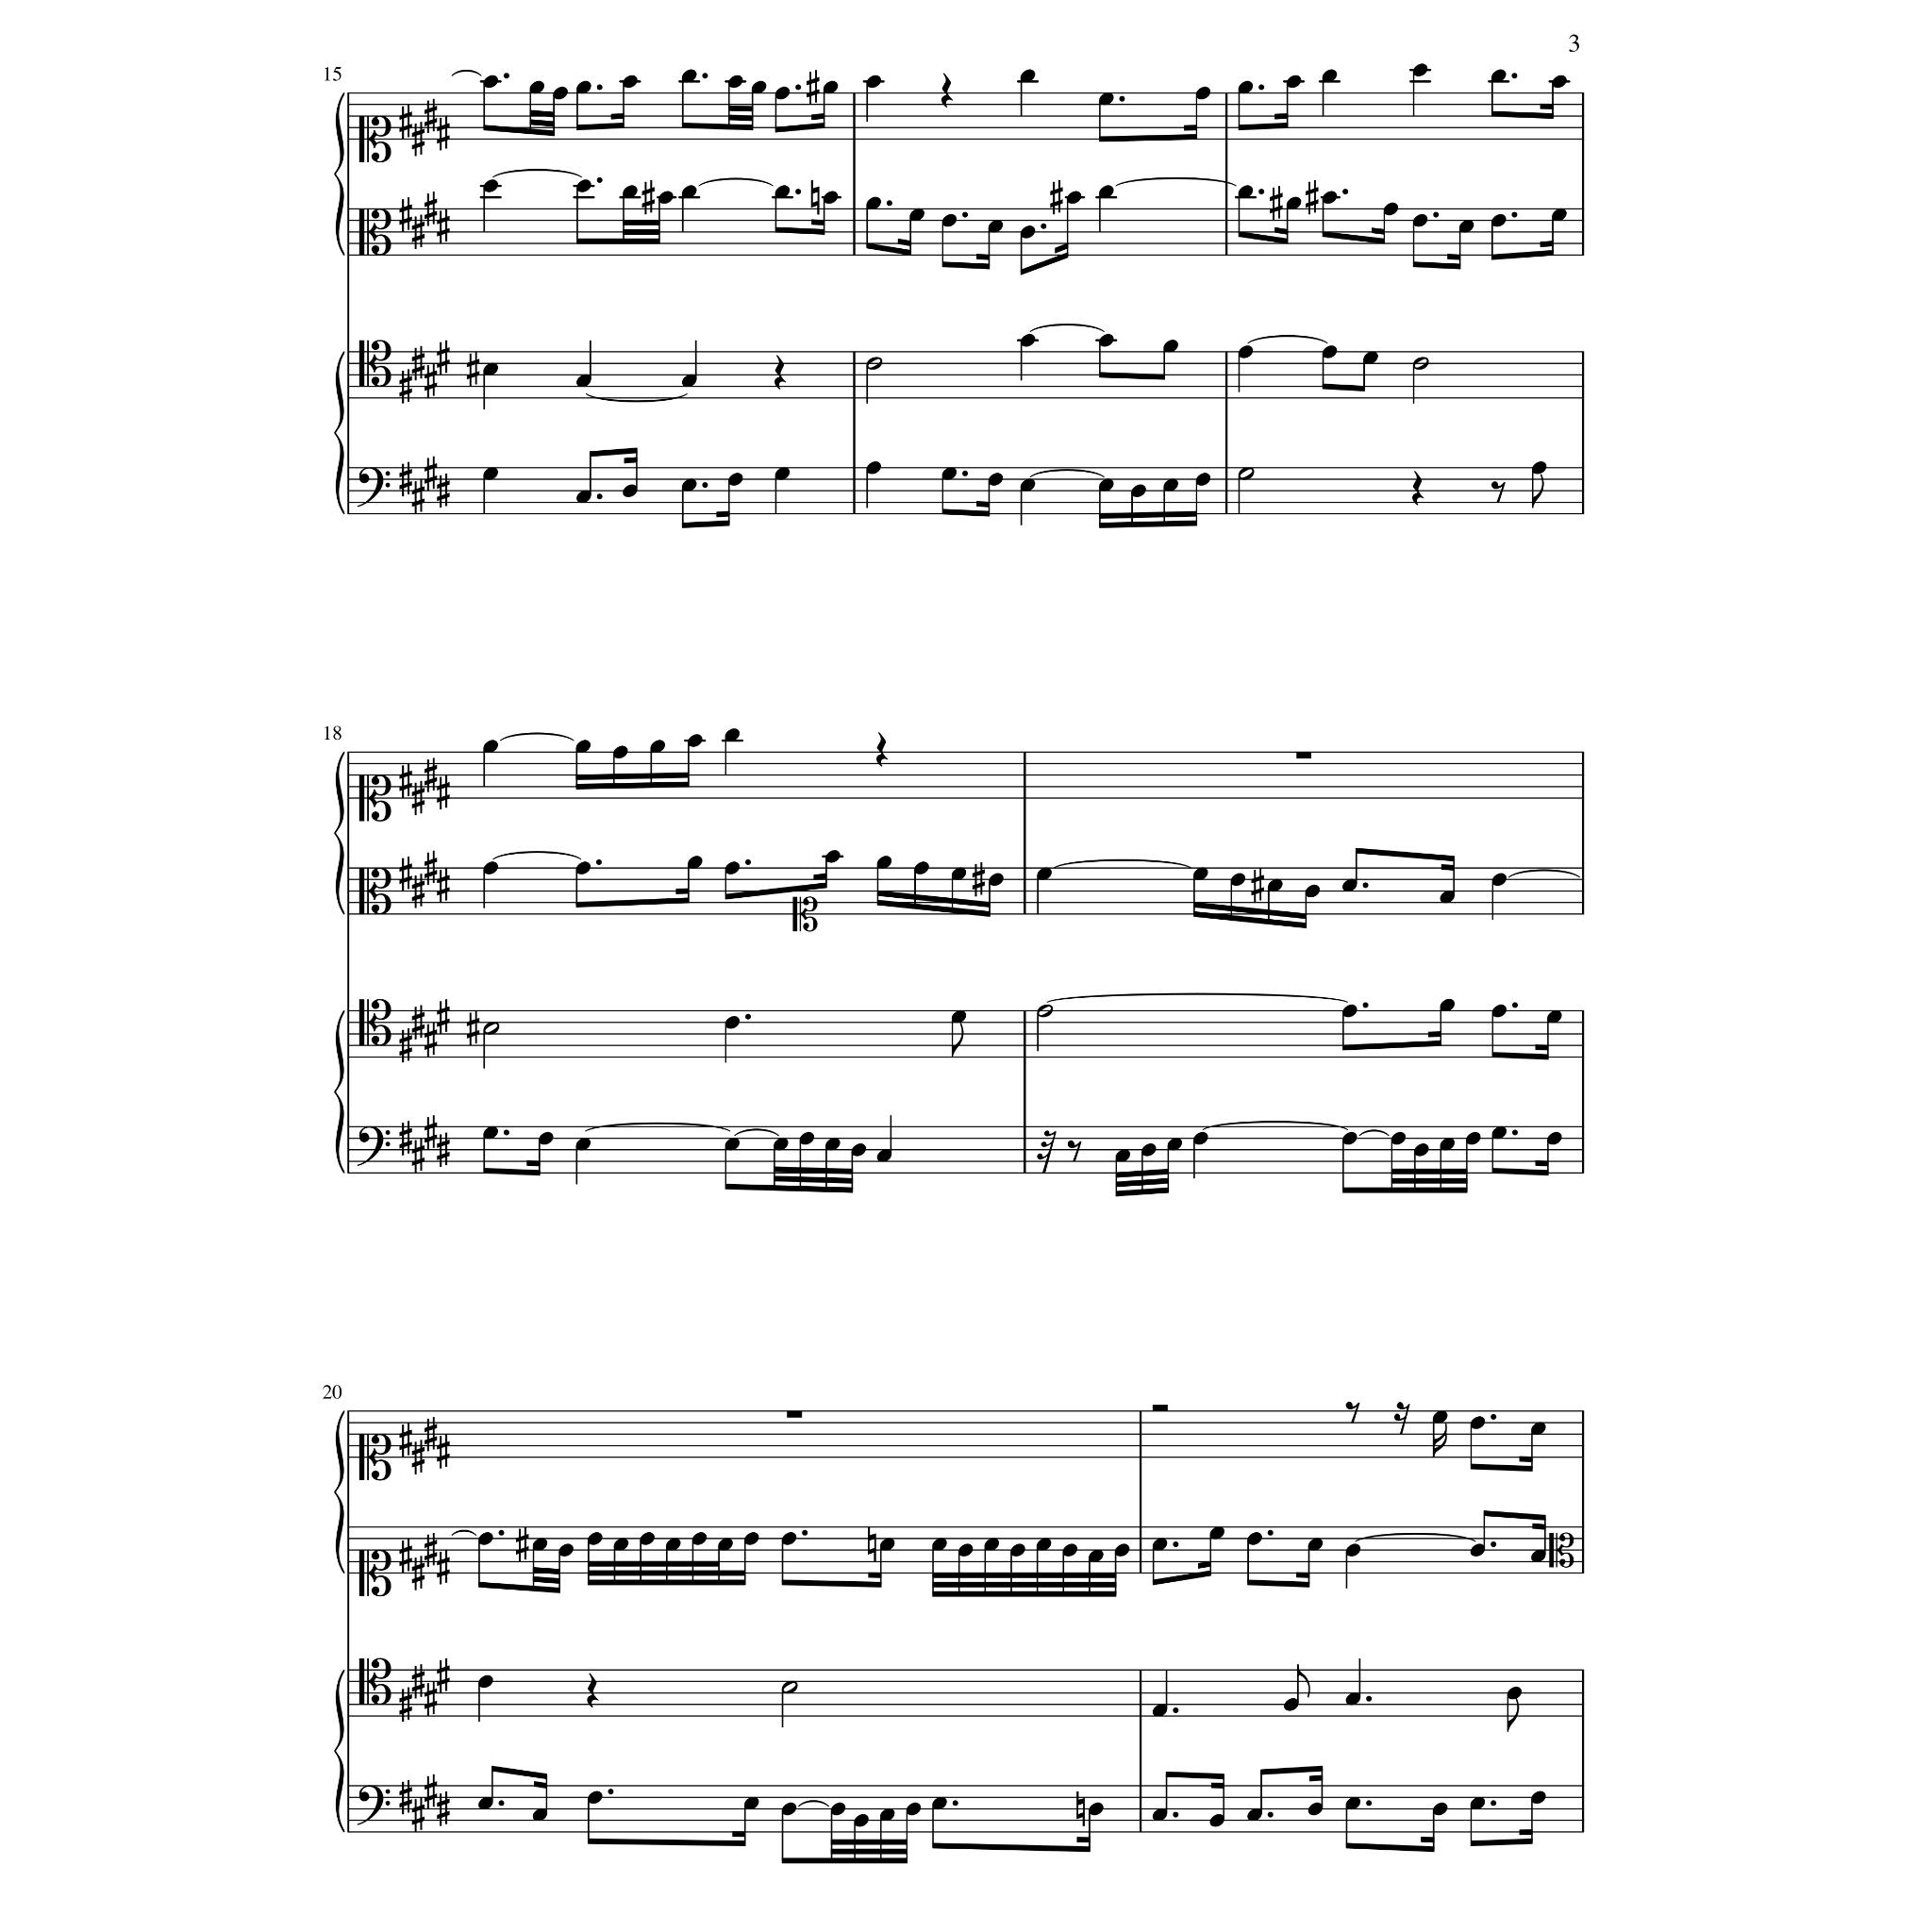brace: (333, 92, 344, 257), (333, 351, 344, 515), (333, 751, 344, 915), (333, 1010, 344, 1174), (333, 1410, 344, 1574), (333, 1670, 344, 1832)
fClef: (357, 1785, 391, 1826), (357, 468, 391, 508), (357, 1126, 391, 1166)
flag16thDown: (1432, 1423, 1447, 1457)
flag8thDown: (951, 1023, 964, 1057), (1532, 475, 1543, 508), (1507, 1698, 1519, 1732)
flag8thUp: (1297, 1664, 1310, 1698)
noteheadBlack: (1019, 225, 1036, 240), (1530, 460, 1547, 475), (774, 185, 791, 200), (1341, 1004, 1358, 1019), (1491, 1004, 1507, 1019), (1245, 1807, 1262, 1823), (1151, 1807, 1168, 1823), (1530, 1421, 1547, 1436), (879, 1807, 896, 1823), (1238, 185, 1253, 200), (1098, 185, 1113, 200), (623, 185, 638, 200), (681, 185, 696, 200), (866, 460, 881, 475), (824, 849, 840, 864), (532, 1807, 547, 1823), (1194, 87, 1211, 100), (1194, 473, 1211, 486), (1285, 75, 1302, 89), (1285, 197, 1302, 210), (1019, 70, 1036, 83), (1019, 334, 1036, 347), (1019, 479, 1036, 492), (1162, 340, 1179, 353), (1162, 479, 1179, 492), (1551, 75, 1568, 89), (1551, 208, 1568, 222), (1362, 351, 1379, 364), (1321, 70, 1338, 83), (1321, 192, 1338, 205), (1321, 345, 1338, 358), (528, 81, 545, 94), (987, 220, 1004, 233), (987, 473, 1004, 486), (774, 467, 791, 480), (774, 87, 791, 100), (726, 75, 743, 89), (726, 473, 743, 486), (1304, 885, 1321, 898), (1266, 879, 1283, 892), (1341, 1132, 1358, 1145), (1341, 879, 1358, 892), (1166, 1138, 1183, 1151), (1413, 1143, 1430, 1157), (1545, 1132, 1562, 1145), (1545, 1010, 1562, 1024), (1491, 1126, 1507, 1140), (1491, 874, 1507, 887), (611, 746, 628, 759), (649, 740, 666, 753), (875, 856, 892, 869), (875, 1149, 892, 1162), (1036, 868, 1053, 881), (798, 1132, 815, 1145), (1245, 1532, 1262, 1545), (1283, 1698, 1300, 1711), (1151, 1704, 1168, 1717), (1151, 1538, 1168, 1551), (1113, 1543, 1130, 1557), (1087, 1802, 1104, 1815), (1087, 1549, 1104, 1562), (1530, 1790, 1547, 1804), (1530, 1549, 1547, 1562), (1506, 1687, 1523, 1700), (717, 1538, 734, 1551), (691, 1532, 708, 1545), (664, 1538, 681, 1551), (477, 1797, 494, 1810), (477, 1675, 494, 1689), (477, 1532, 494, 1545), (879, 1538, 896, 1551), (1009, 1543, 1026, 1557), (983, 1538, 1000, 1551), (957, 1543, 974, 1557), (853, 1814, 870, 1827), (1238, 81, 1253, 94), (1238, 345, 1253, 358), (1066, 192, 1081, 205), (1098, 92, 1113, 106), (1098, 334, 1113, 347), (1098, 479, 1113, 492), (1130, 485, 1145, 498), (1383, 203, 1398, 216), (1412, 64, 1427, 77), (1412, 214, 1427, 227), (1491, 70, 1506, 83), (1491, 214, 1506, 227), (1458, 220, 1474, 233), (623, 485, 638, 498), (623, 75, 638, 89), (575, 375, 591, 388), (575, 491, 591, 504), (658, 192, 674, 205), (575, 179, 591, 192), (681, 70, 696, 83), (681, 375, 696, 388), (681, 479, 696, 492), (553, 87, 568, 100), (575, 81, 591, 94), (483, 75, 498, 89), (483, 179, 498, 192), (483, 363, 498, 376), (483, 467, 498, 480), (866, 197, 881, 210), (941, 467, 957, 480), (909, 208, 924, 222), (941, 214, 957, 227), (866, 75, 881, 89), (751, 81, 766, 94), (823, 81, 838, 94), (823, 192, 838, 205), (1192, 1132, 1207, 1145), (1230, 874, 1245, 887), (1391, 1132, 1406, 1145), (1141, 1143, 1157, 1157), (1192, 868, 1207, 881), (1115, 1149, 1130, 1162), (1466, 1132, 1481, 1145), (1440, 1138, 1455, 1151), (1440, 999, 1455, 1012), (1440, 891, 1455, 904), (575, 1138, 591, 1151), (575, 861, 591, 874), (575, 740, 591, 753), (538, 1132, 553, 1145), (724, 1138, 740, 1151), (724, 861, 740, 874), (724, 728, 740, 741), (687, 856, 702, 869), (687, 734, 702, 747), (724, 1016, 740, 1029), (483, 1126, 498, 1140), (483, 861, 498, 874), (483, 740, 498, 753), (913, 861, 928, 874), (851, 1143, 866, 1157), (989, 874, 1004, 887), (951, 1010, 966, 1024), (951, 868, 966, 881), (774, 1138, 789, 1151), (824, 1138, 840, 1151), (1345, 1543, 1360, 1557), (1209, 1814, 1224, 1827), (1209, 1526, 1224, 1540), (1345, 1692, 1360, 1706), (1307, 1802, 1323, 1815), (1307, 1538, 1323, 1551), (1432, 1802, 1447, 1815), (1432, 1410, 1447, 1424), (1345, 1797, 1360, 1810), (1470, 1797, 1485, 1810), (1470, 1543, 1485, 1557), (1470, 1416, 1485, 1429), (587, 1790, 602, 1804), (587, 1532, 602, 1545), (558, 1543, 574, 1557), (640, 1532, 655, 1545), (613, 1538, 628, 1551), (532, 1538, 547, 1551), (932, 1797, 947, 1810), (932, 1538, 947, 1551), (906, 1802, 921, 1815), (1062, 1543, 1077, 1557), (1036, 1538, 1051, 1551), (781, 1802, 796, 1815), (781, 1532, 796, 1545), (743, 1797, 758, 1810), (743, 1532, 758, 1545), (830, 1802, 845, 1815)
noteheadHalf: (1036, 1004, 1053, 1019), (1238, 467, 1255, 480), (1412, 358, 1429, 371), (866, 358, 883, 371), (483, 1022, 500, 1035), (781, 1681, 798, 1694)
rest16th: (1393, 1402, 1410, 1436)
rest8th: (1491, 481, 1506, 504), (1067, 1141, 1082, 1163), (1345, 1402, 1360, 1424)
restHalf: (1151, 1405, 1168, 1412)
restQuarter: (1411, 471, 1424, 507), (774, 355, 787, 391), (875, 732, 889, 768), (941, 73, 953, 108), (587, 1673, 598, 1708)
restWhole: (1296, 752, 1311, 759), (787, 1411, 802, 1419)
